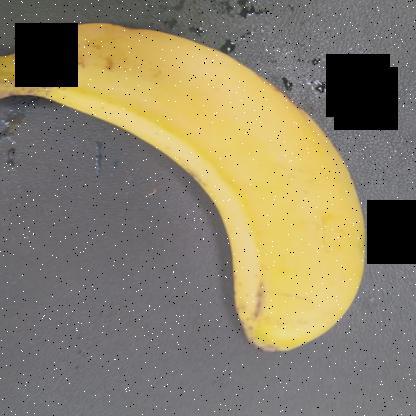freshripe: (0, 0, 390, 359)
